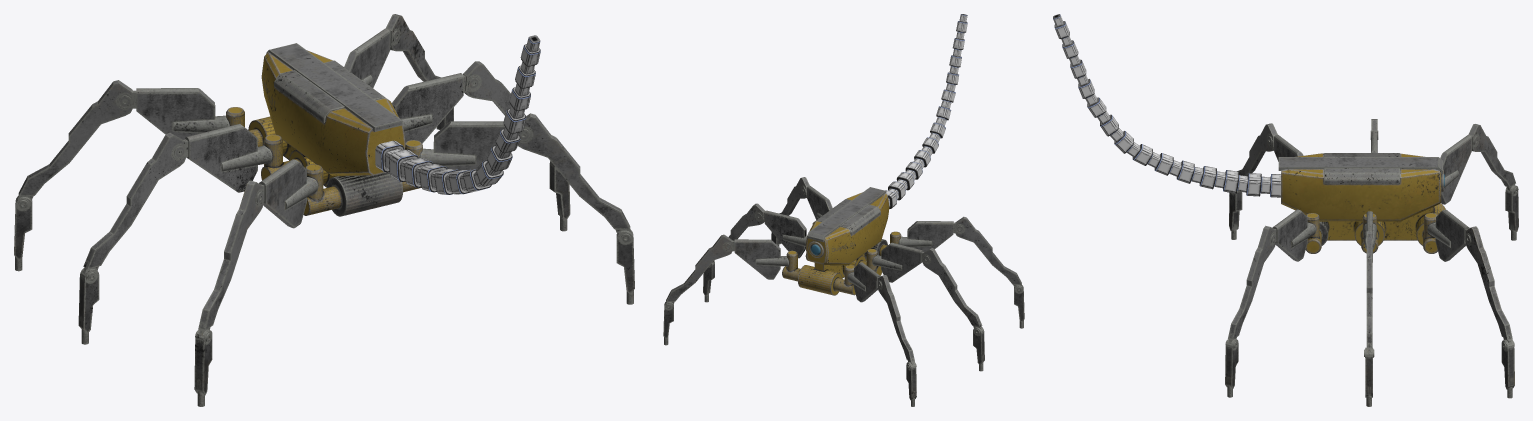
The model's file is scuttle.glb.
3 renders of one model, left to right at view 1: azimuth 30°, elevation 25°; view 2: azimuth 150°, elevation 25°; view 3: azimuth 270°, elevation 25°, orthographic. The views are drawn at different scales.
Visible parts, largest first — view 1: spidey_Baked_0_3, weapon_Baked_Baked_1_5; view 2: spidey_Baked_0_3, weapon_Baked_Baked_1_5; view 3: spidey_Baked_0_3, weapon_Baked_Baked_1_5.
Part boxes in pixels (x1=…): spidey_Baked_0_3: x1=14, y1=14, x2=634, y2=406; weapon_Baked_Baked_1_5: x1=375, y1=35, x2=540, y2=194; spidey_Baked_0_3: x1=663, y1=177, x2=1024, y2=406; weapon_Baked_Baked_1_5: x1=885, y1=14, x2=967, y2=208; spidey_Baked_0_3: x1=1225, y1=119, x2=1518, y2=406; weapon_Baked_Baked_1_5: x1=1053, y1=14, x2=1280, y2=197.
Bounding box in the file's own units: 5.1 × 4.04 × 5.63.
2 materials, 2 textured.
